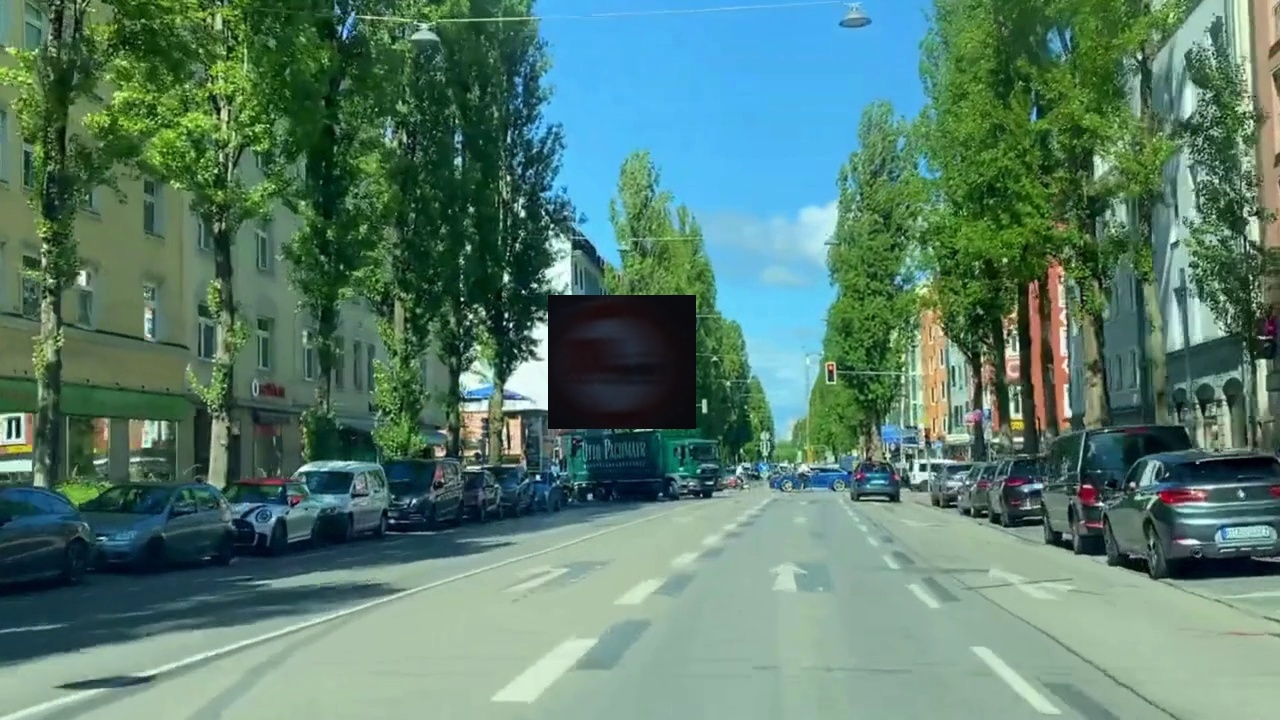No pass >3.5t: (548, 295, 696, 429)
